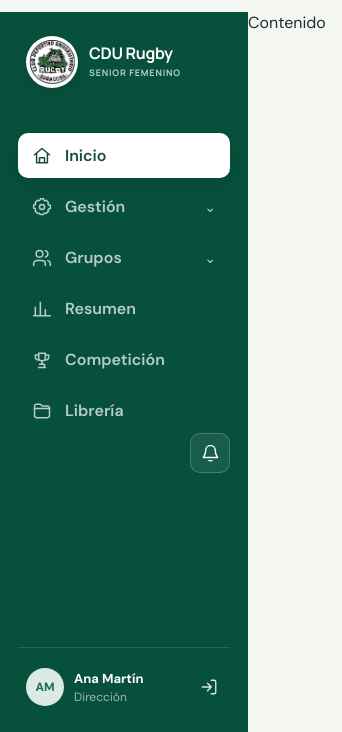
Scenario: AppLayout › gives Dirección access to the shared management group
Expected: the button "Inicio" is shown, [18,133,230,178]
Expected: the button "Resumen" is shown, [18,286,230,331]
Step 1. Click the button "Gestión ⌄" → click(124, 206), box [18,184,230,229]
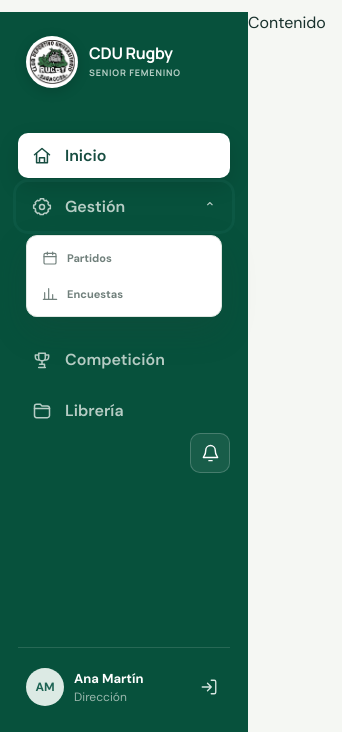
Result: the menu item "Partidos" is shown at [32,241,216,275]
Result: the menu item "Encuestas" is shown at [32,277,216,311]
